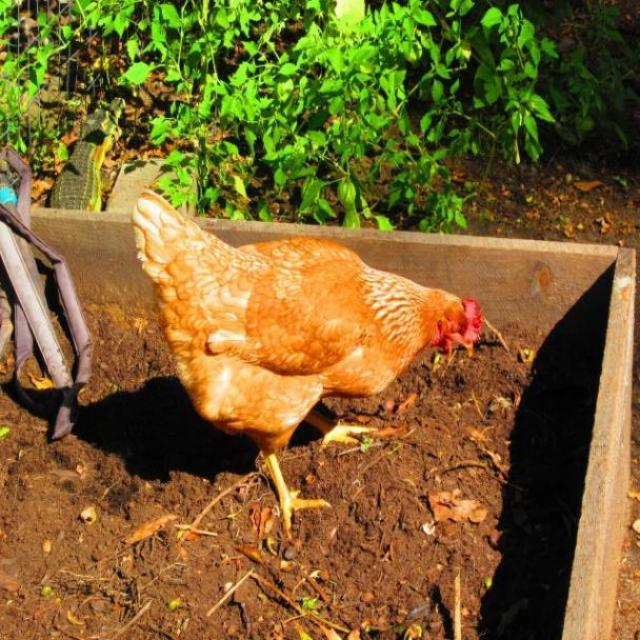Chicken: (131, 191, 481, 536)
